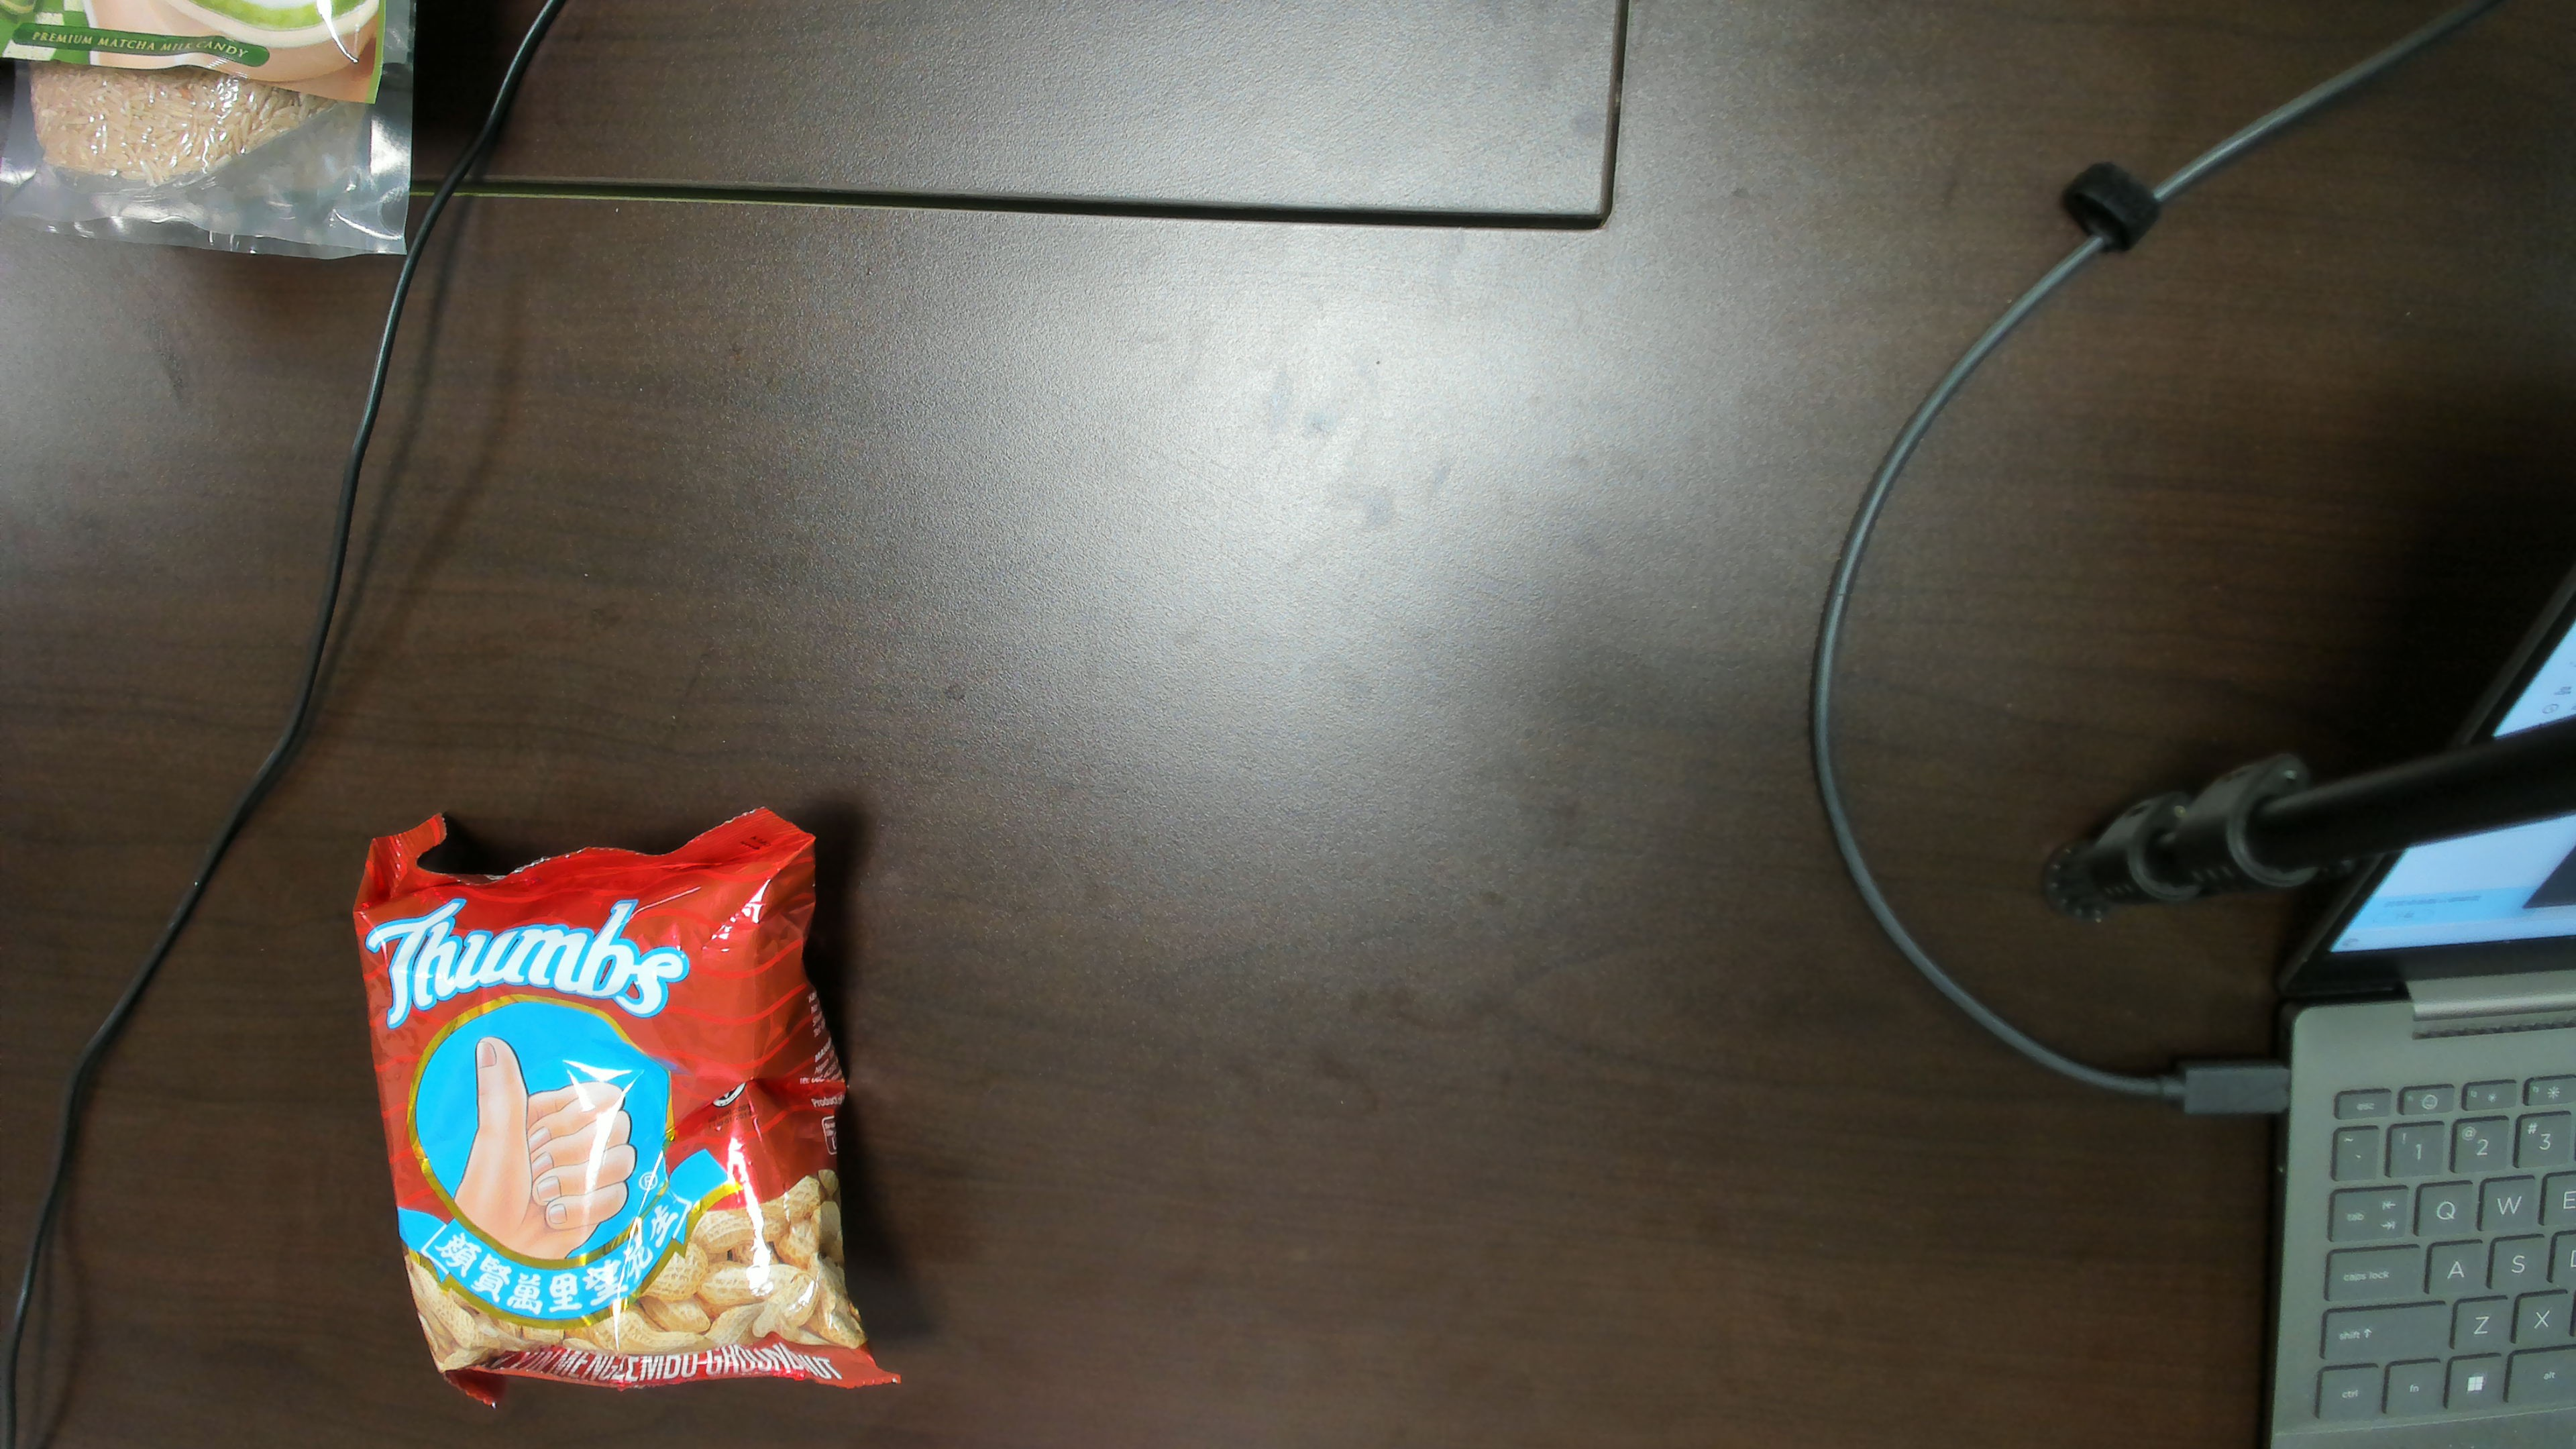Nuts_100-199g_Halal_NonHealthy: (396, 908, 786, 1327)
